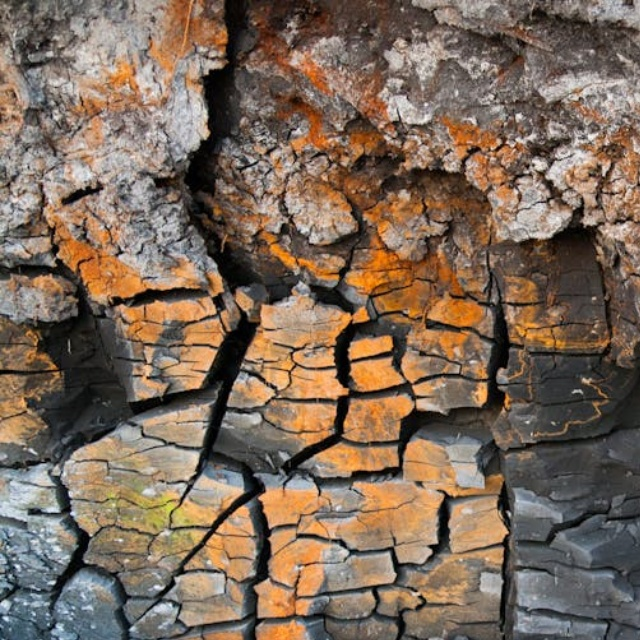网状裂隙: (2, 234, 640, 640)
